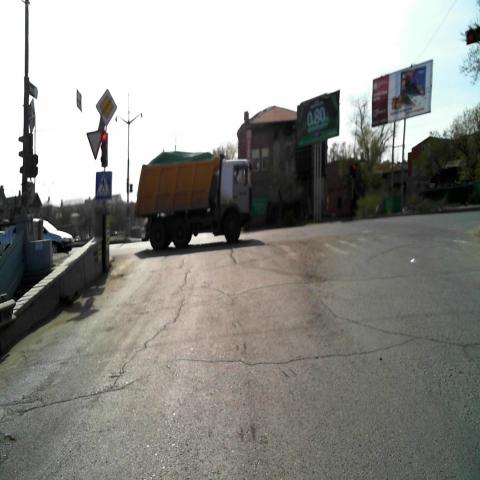2_2: (96, 88, 118, 126)
2_4: (86, 129, 104, 161)
5_19_1: (96, 172, 112, 199)
